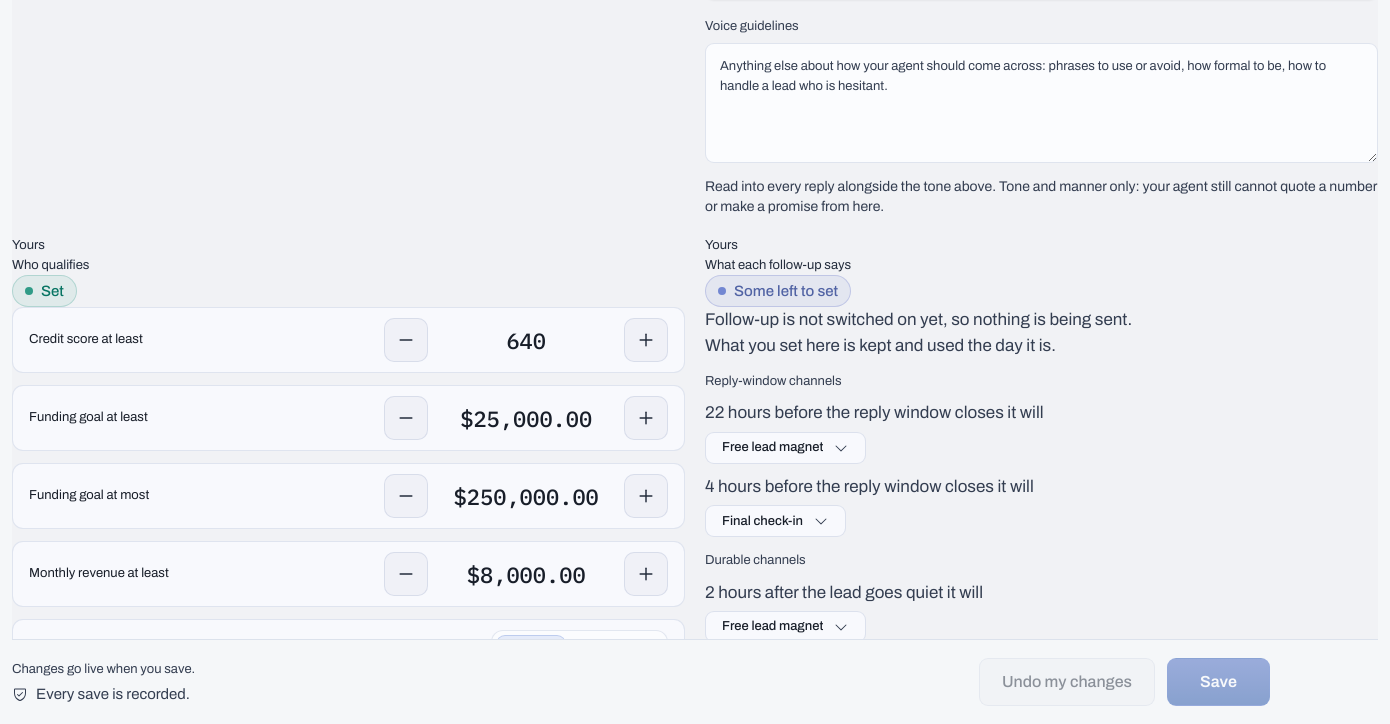
Test: who qualifies › steps a bound rather than asking for a typed number
This screenshot has width=1390, height=724.
(page scrolled)
Click the button named "Raise credit score at least": (646, 340) [624,318,668,362]
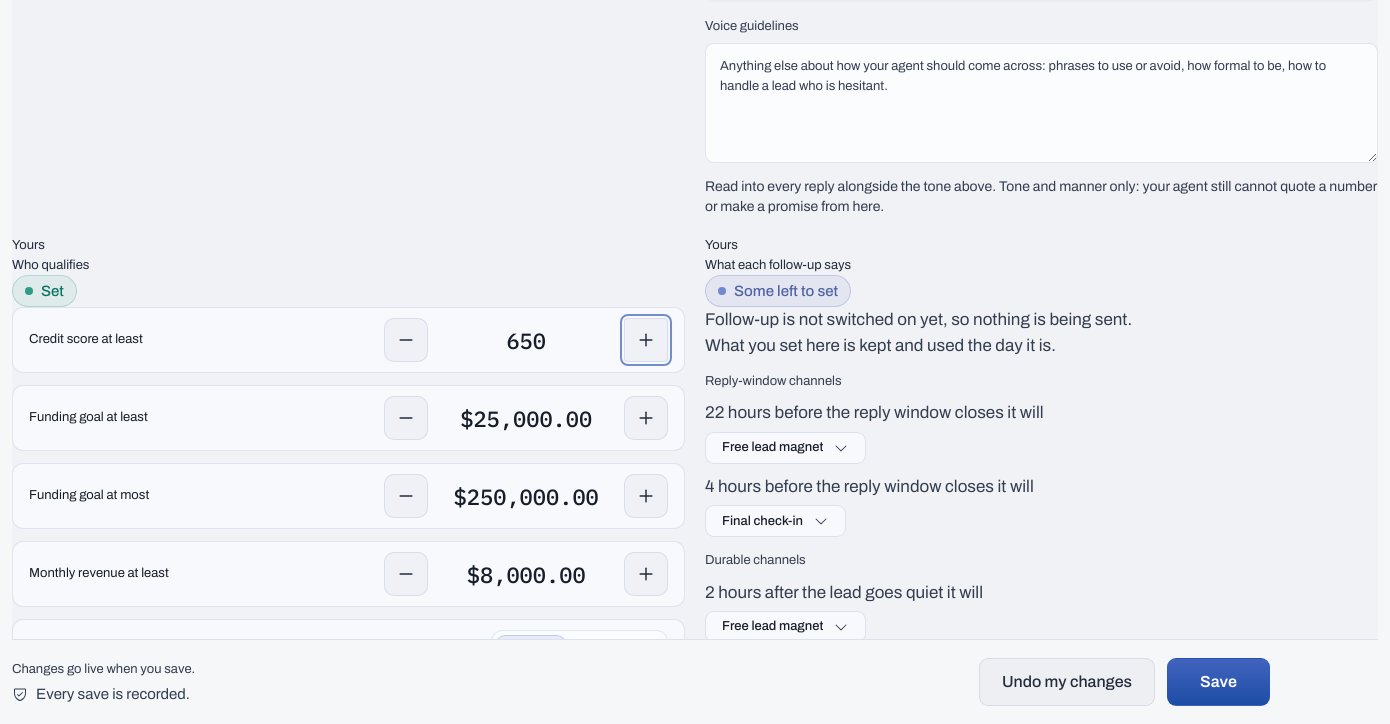
Expected: the text "650" is shown, [506,326,546,355]
